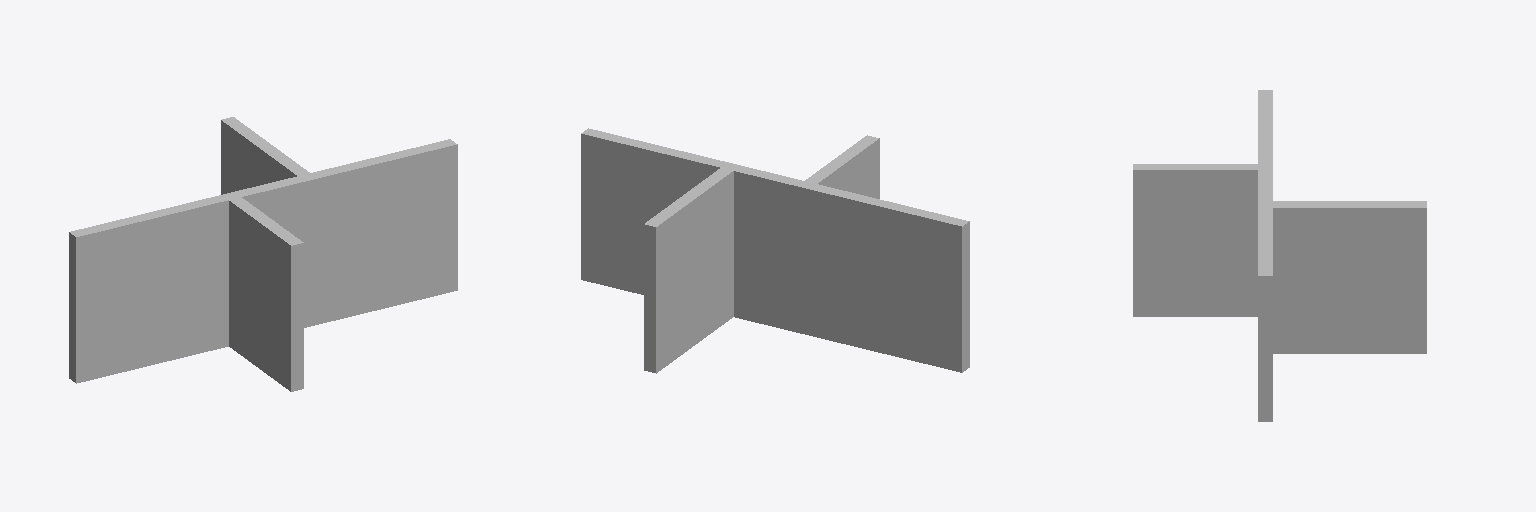
The model's file is cableobjtest.obj.
3 renders of one model, left to right at view 1: azimuth 30°, elevation 25°; view 2: azimuth 150°, elevation 25°; view 3: azimuth 270°, elevation 25°, orthographic.
Visible parts, largest first — view 1: cube; view 2: cube; view 3: cube.
Part boxes in pixels (x1,y1,x2,y2): cube: (69,117,457,391); cube: (581,128,969,373); cube: (1133,90,1426,421).
Size of the model in its own units: 3.75 by 1.38 by 2.5.